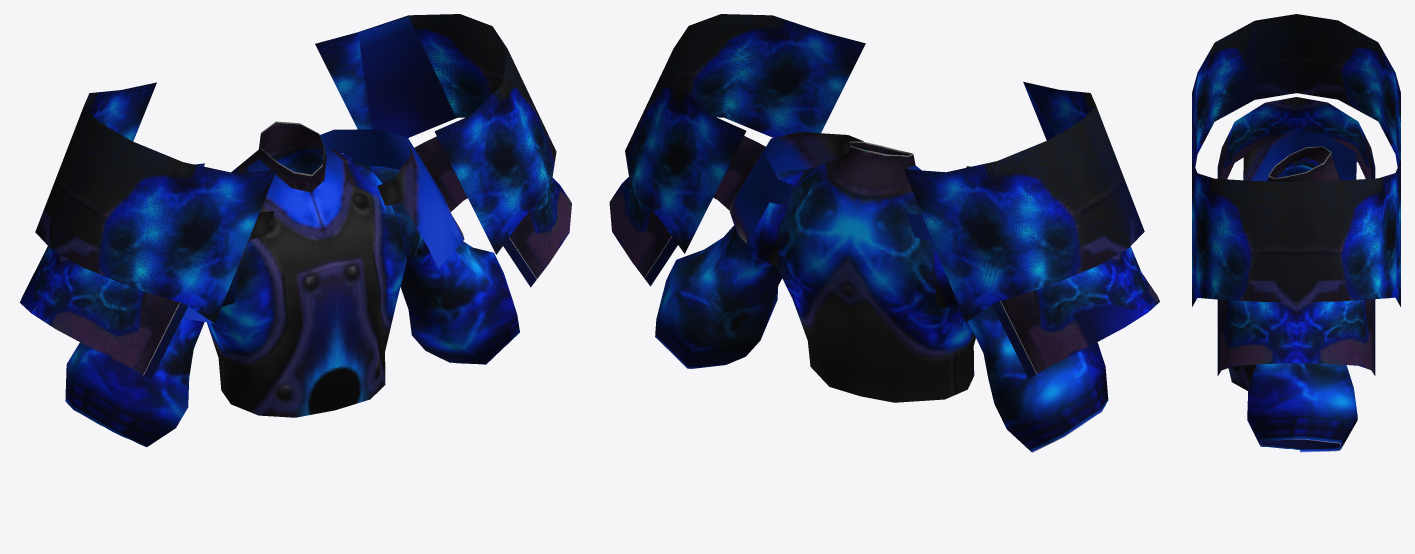
File: hum_caster_05_d10fc739.glb
3 views of the same model, side by side, from view 1: azimuth 30°, elevation 25°; view 2: azimuth 150°, elevation 25°; view 3: azimuth 270°, elevation 25° (orthographic). The views are drawn at different scales.
Size of the model in its own units: 1.6 by 1.15 by 0.6187.
Materials: 1 (1 with a texture image).
